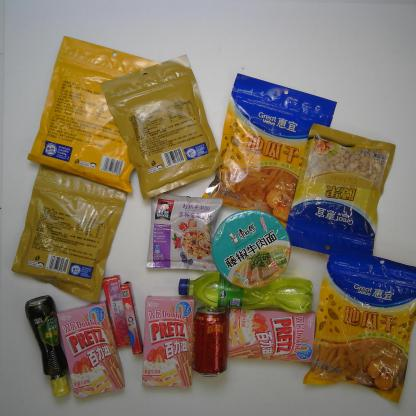Candy: (100, 272, 136, 347), (118, 279, 144, 356)
Dessert: (55, 298, 127, 400), (224, 302, 320, 364), (138, 294, 200, 390)
Dried Fruit: (25, 32, 168, 197), (199, 70, 340, 230), (298, 243, 416, 405), (97, 52, 220, 200), (9, 158, 131, 307), (278, 122, 398, 264)
Drink: (176, 266, 316, 315), (186, 302, 231, 383)
Instant Drink: (141, 186, 224, 274)
Instant Noodles: (209, 208, 294, 292)
Seasoner: (22, 293, 72, 398)
